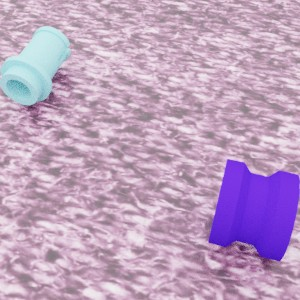lego: (208, 158, 300, 261), (0, 26, 70, 105)
